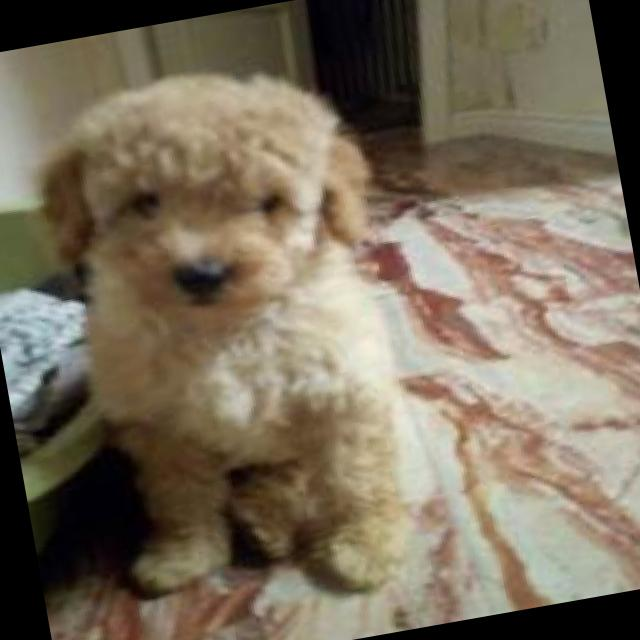dog: (11, 48, 452, 630)
